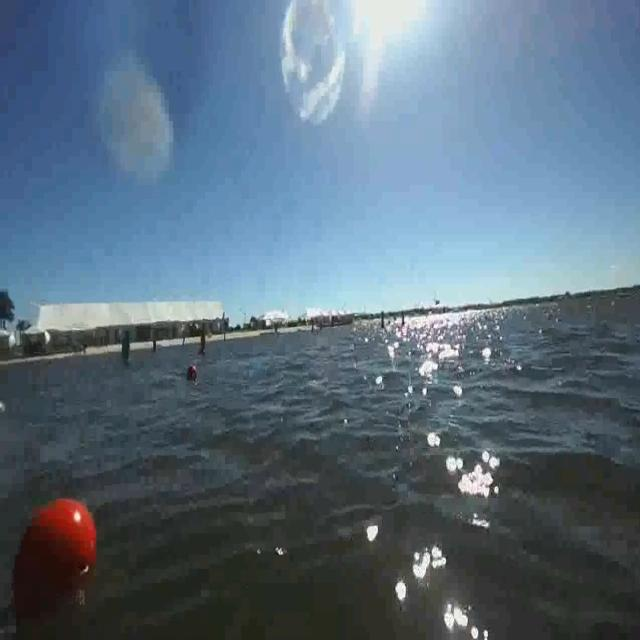green-column-buoy: (118, 329, 134, 369)
red-buoy: (11, 502, 97, 608), (186, 363, 197, 378)
red-column-buoy: (199, 329, 209, 356)
